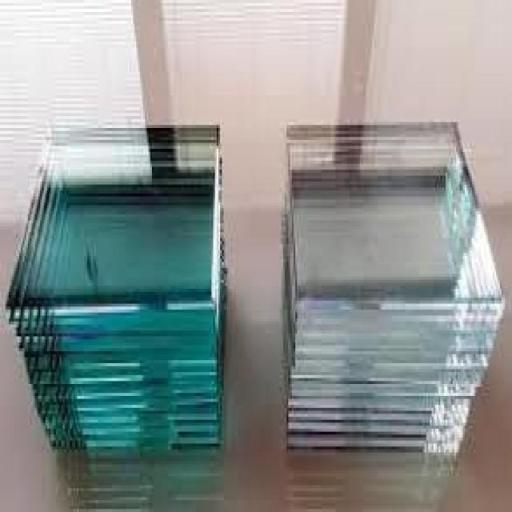glass: (274, 106, 509, 478), (6, 126, 224, 458)
